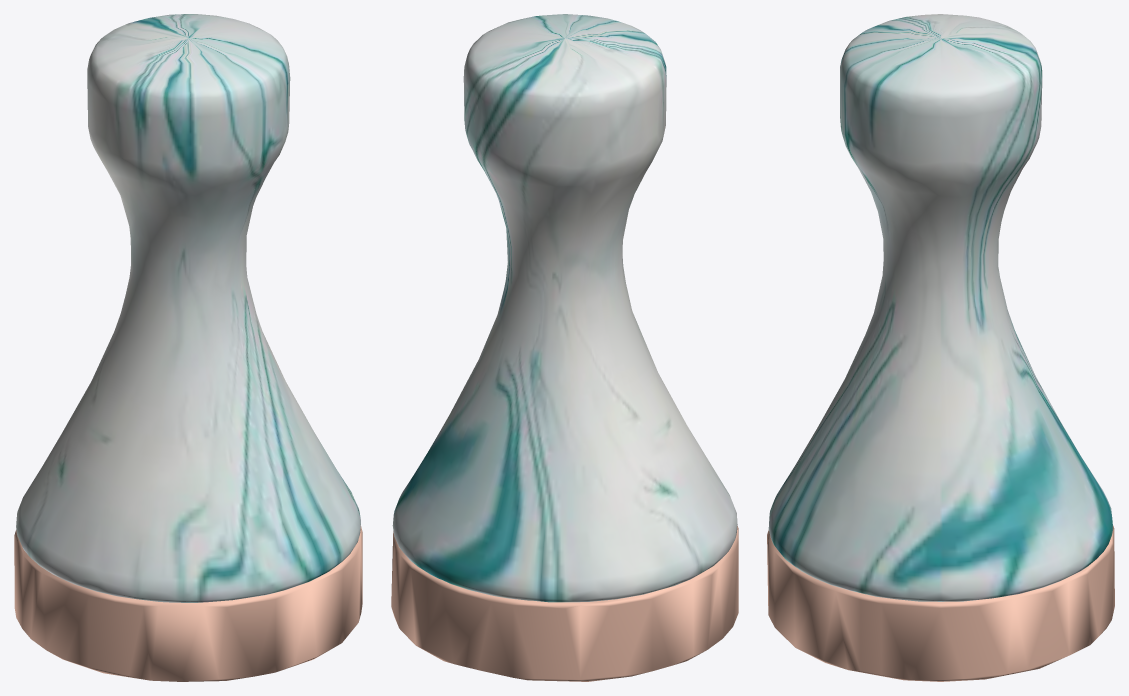
The model's file is vez_bila.glb.
3 views of the same model, side by side, from view 1: azimuth 30°, elevation 25°; view 2: azimuth 150°, elevation 25°; view 3: azimuth 270°, elevation 25° (orthographic).
Parts seen in each view (by area): view 1: vez_bila; view 2: vez_bila; view 3: vez_bila.
Boxes of the visible parts, bbox=[...] form: vez_bila: bbox=[14, 14, 362, 681]; vez_bila: bbox=[391, 14, 738, 681]; vez_bila: bbox=[767, 14, 1114, 681].
Size of the model in its own units: 0.058 by 0.1051 by 0.058.
2 materials, 1 textured.
